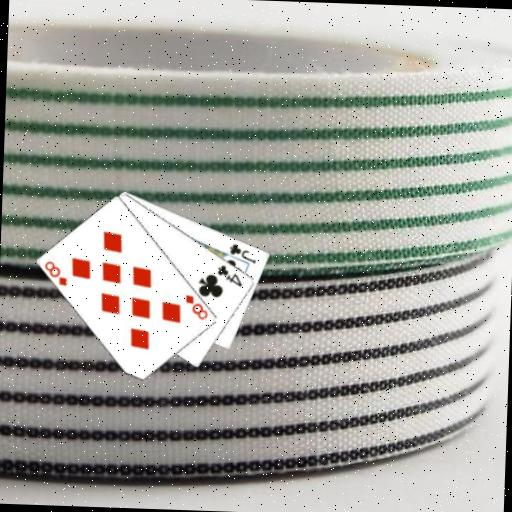4C: (214, 261, 244, 287)
8D: (182, 292, 210, 322), (42, 257, 70, 287)
JC: (226, 240, 258, 265)
